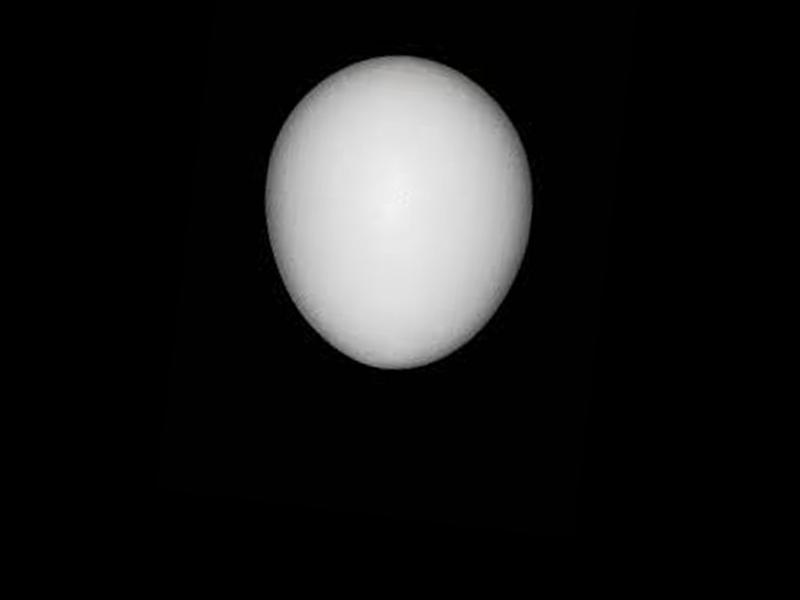Eggs: (246, 42, 548, 381)
